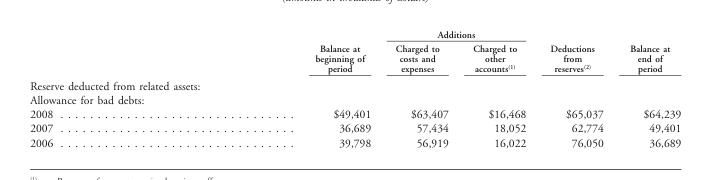table: (29, 28, 680, 148)
table column: (183, 28, 382, 148), (29, 28, 183, 148), (382, 28, 460, 148), (537, 28, 615, 148), (460, 28, 537, 148), (615, 28, 680, 148)
table column header: (29, 28, 680, 76)
table projected row header: (29, 76, 680, 92), (29, 92, 680, 106)
table row: (29, 41, 680, 76), (29, 76, 680, 92), (29, 120, 680, 135), (29, 92, 680, 106), (29, 106, 680, 120), (29, 28, 680, 41), (29, 135, 680, 148)
table spanning cell: (183, 28, 382, 76), (537, 28, 615, 76), (615, 28, 680, 76), (382, 28, 537, 41)
